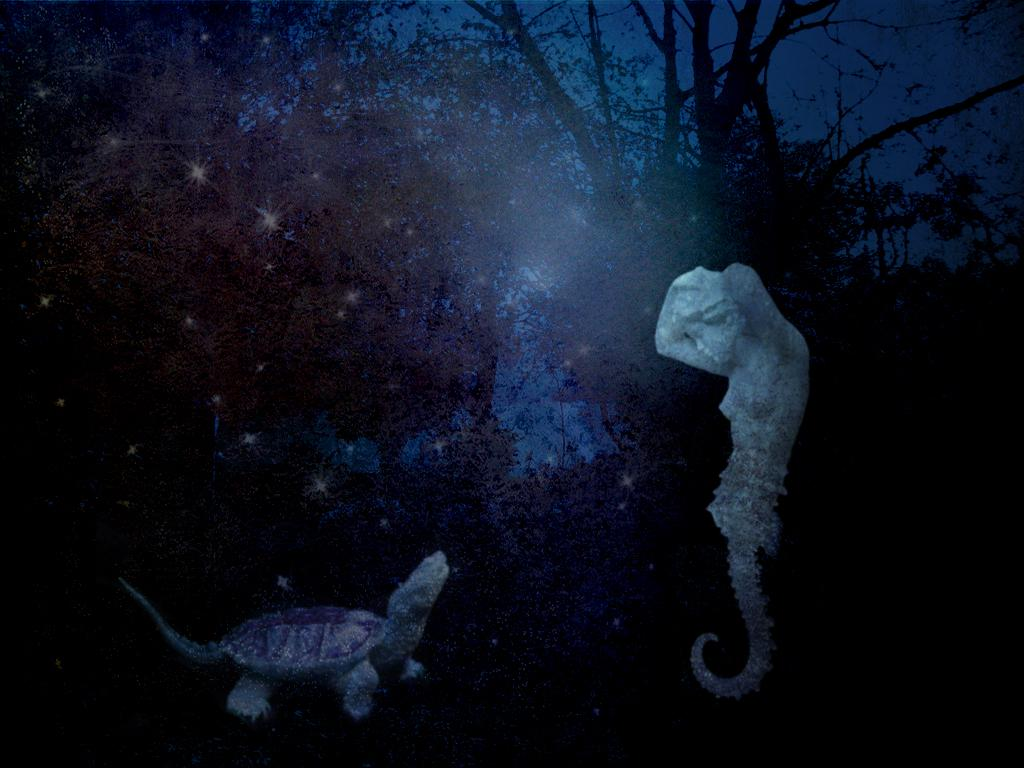Sea turtles: (117, 544, 451, 722)
